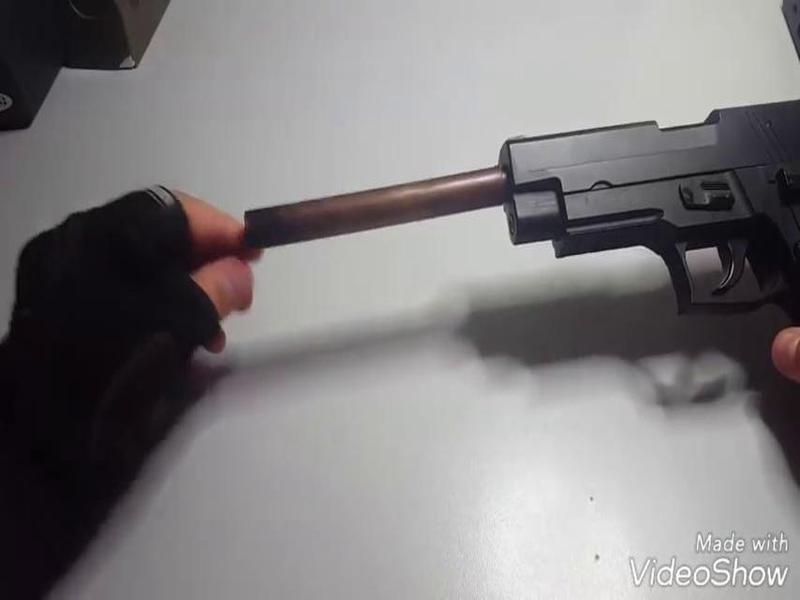Pistola: (495, 77, 800, 332)
